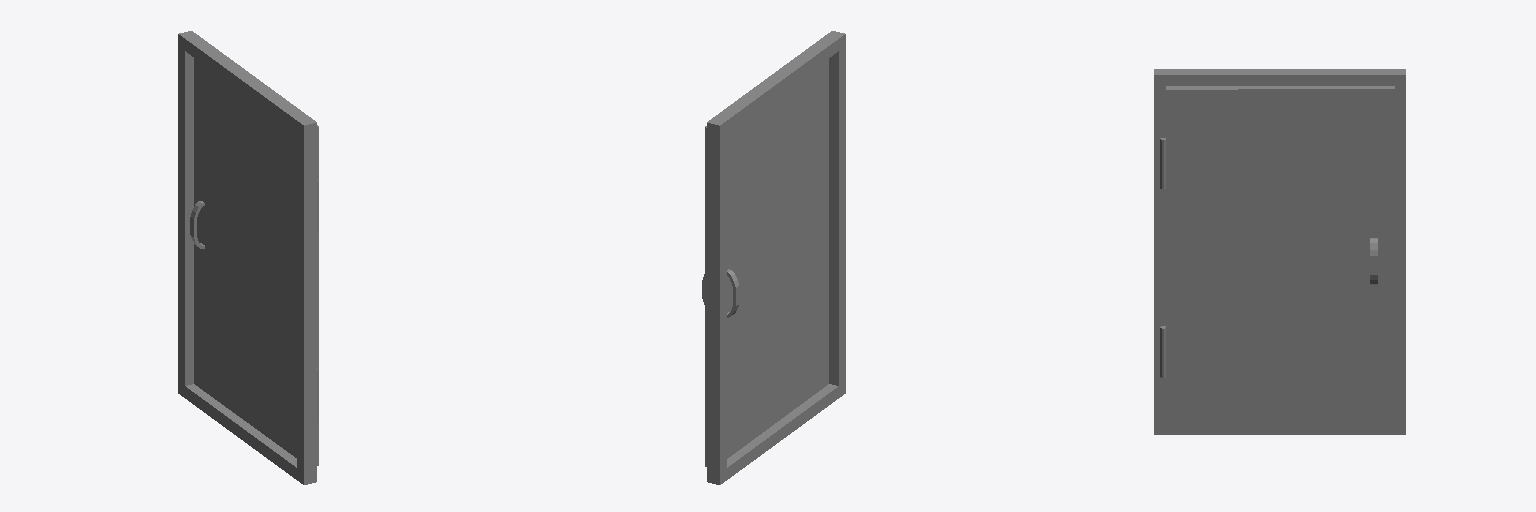
Rendered from door.obj.
3 renders of one model, left to right at view 1: azimuth 30°, elevation 25°; view 2: azimuth 150°, elevation 25°; view 3: azimuth 270°, elevation 25°, orthographic.
Parts seen in each view (by area): view 1: door_door; view 2: door_door; view 3: door_door.
Part boxes in pixels (x1,y1,x2,y2): door_door: (178, 31, 318, 484); door_door: (702, 31, 845, 484); door_door: (1154, 69, 1405, 434).
Size of the model in its own units: 9.27 by 95.44 by 60.44.